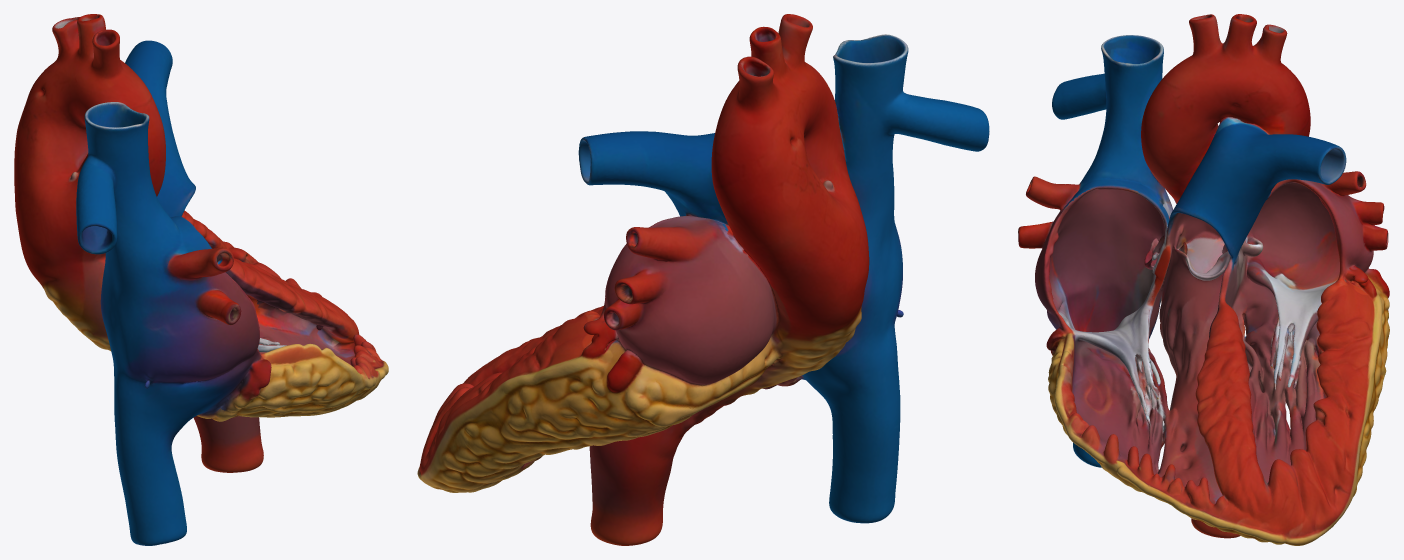
The model's file is heart-internal.glb.
3 renders of one model, left to right at view 1: azimuth 30°, elevation 25°; view 2: azimuth 150°, elevation 25°; view 3: azimuth 270°, elevation 25°, orthographic. The views are drawn at different scales.
Parts seen in each view (by area): view 1: tripo_node_feac6be0-2872-4c0b-99ec-a0ede27c4030_0; view 2: tripo_node_feac6be0-2872-4c0b-99ec-a0ede27c4030_0; view 3: tripo_node_feac6be0-2872-4c0b-99ec-a0ede27c4030_0.
Boxes of the visible parts, x1,y1,x2,y2 form: tripo_node_feac6be0-2872-4c0b-99ec-a0ede27c4030_0: (14, 14, 388, 545); tripo_node_feac6be0-2872-4c0b-99ec-a0ede27c4030_0: (417, 14, 989, 545); tripo_node_feac6be0-2872-4c0b-99ec-a0ede27c4030_0: (1018, 14, 1389, 545).
Size of the model in its own units: 0.8402 by 1 by 0.7462.
1 material, 1 textured.
